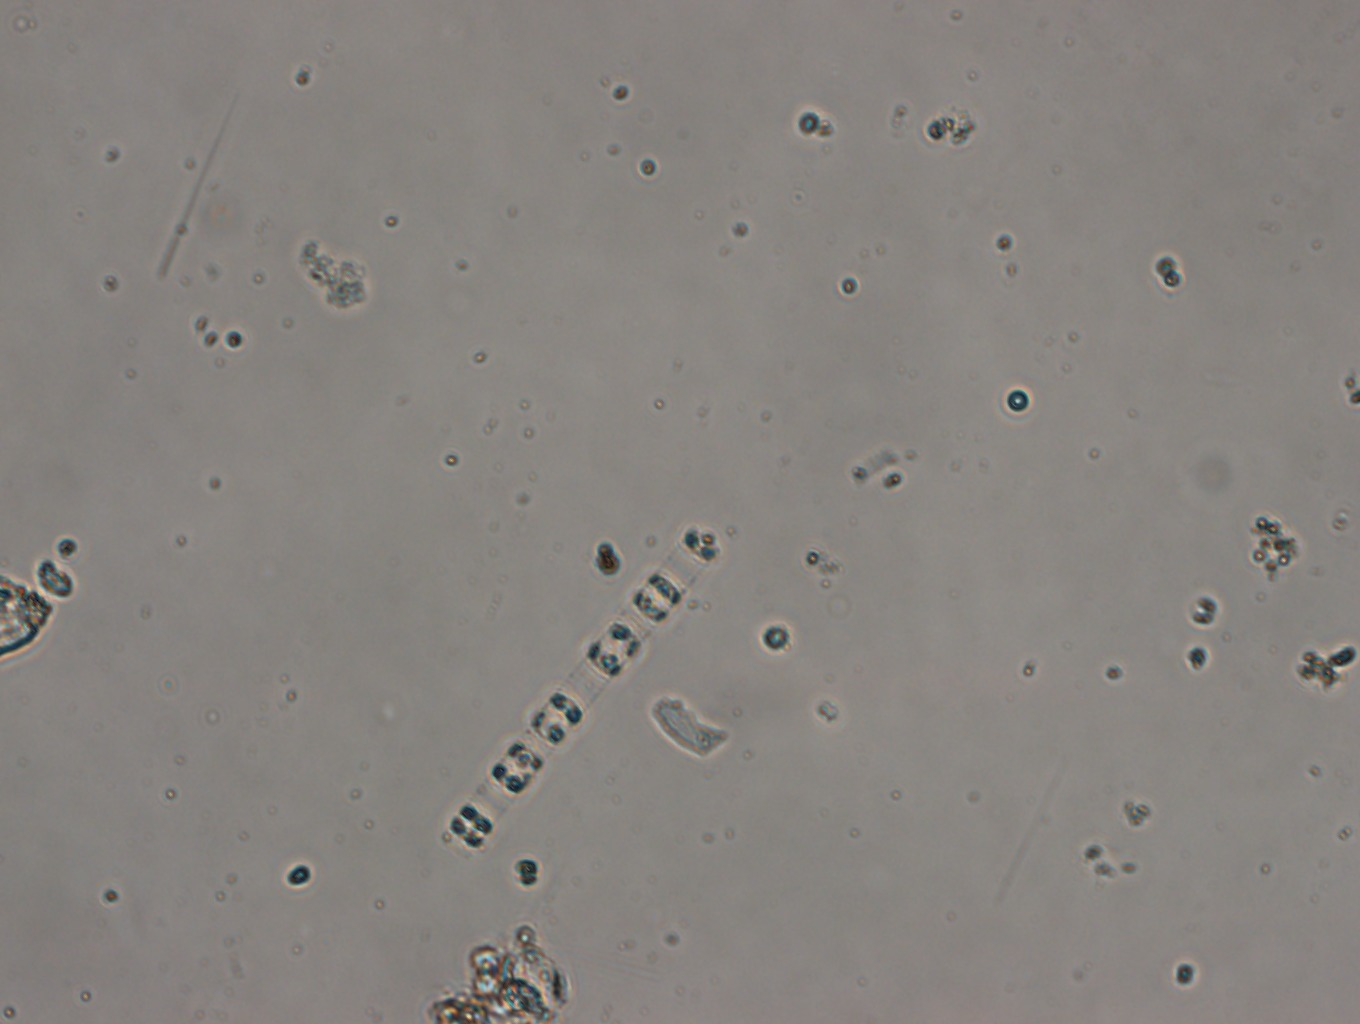skeletonema: (436, 517, 736, 857)
